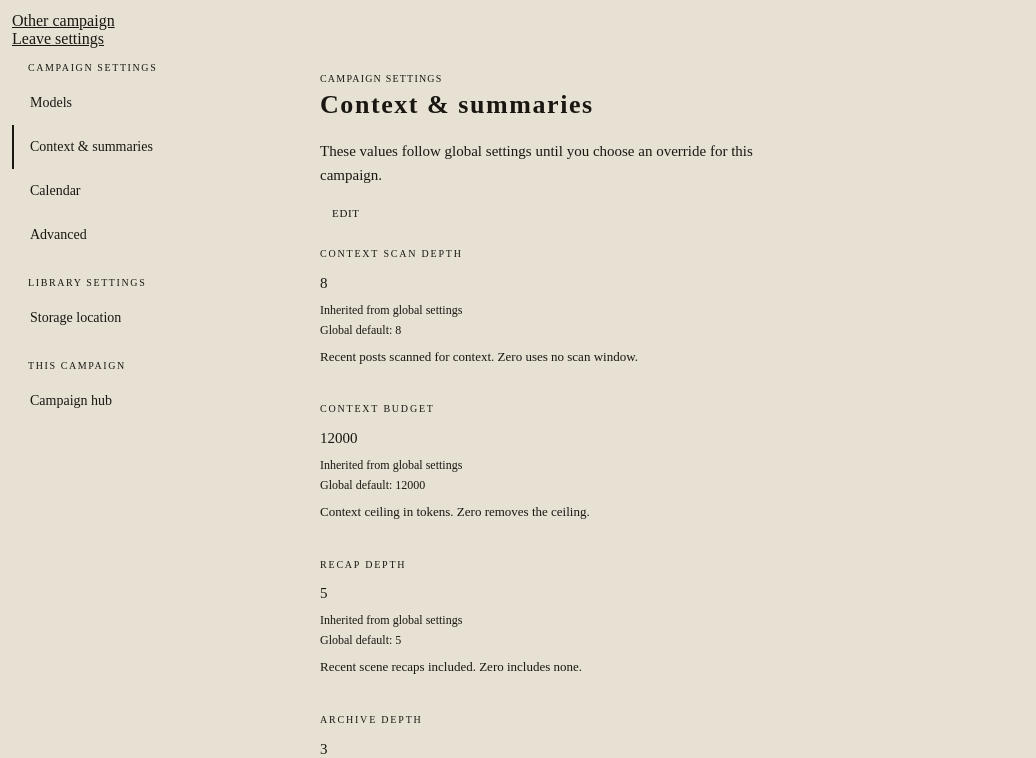
opens read-only effective and inherited values, then explicitly edits
Expected: the text "12000" is shown, [320,430,358,446]
Expected: the text "Inherited from global settings" below "Context budget" is shown, [320,458,462,472]
Click the button "Edit".
click(346, 213)  # box [320,201,372,225]
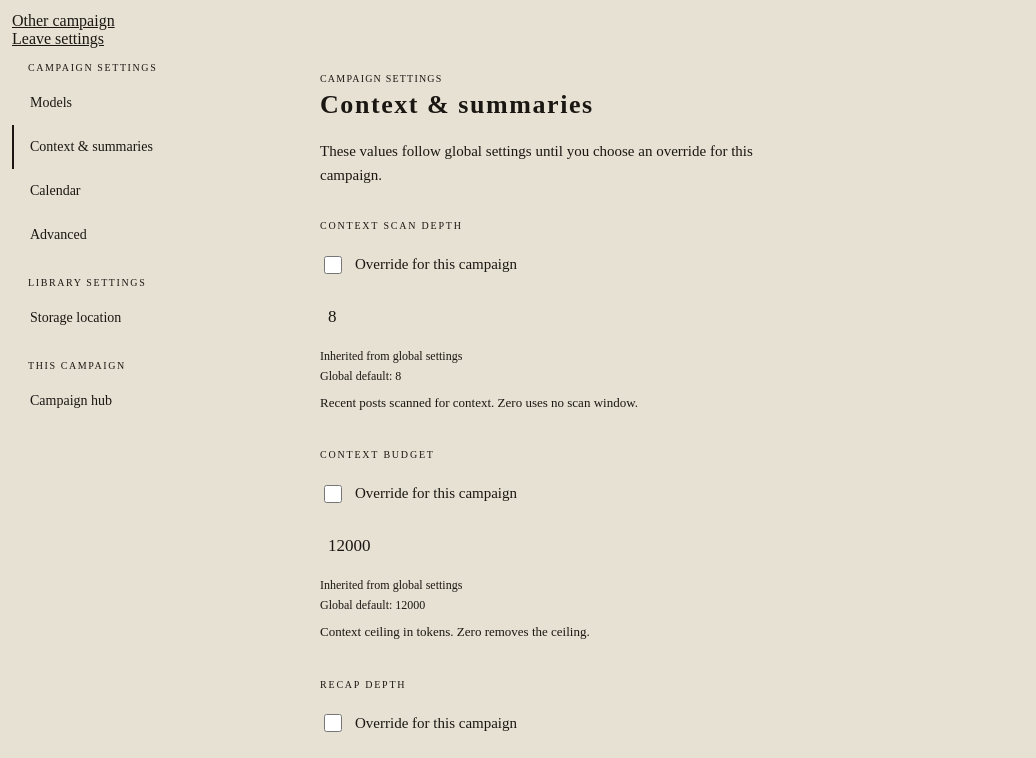
Expected: the checkbox named "Override Context budget" is not checked, [324,485,342,503]
Expected: the field named "Context budget" below "Context budget" is disabled, [320,528,816,564]
